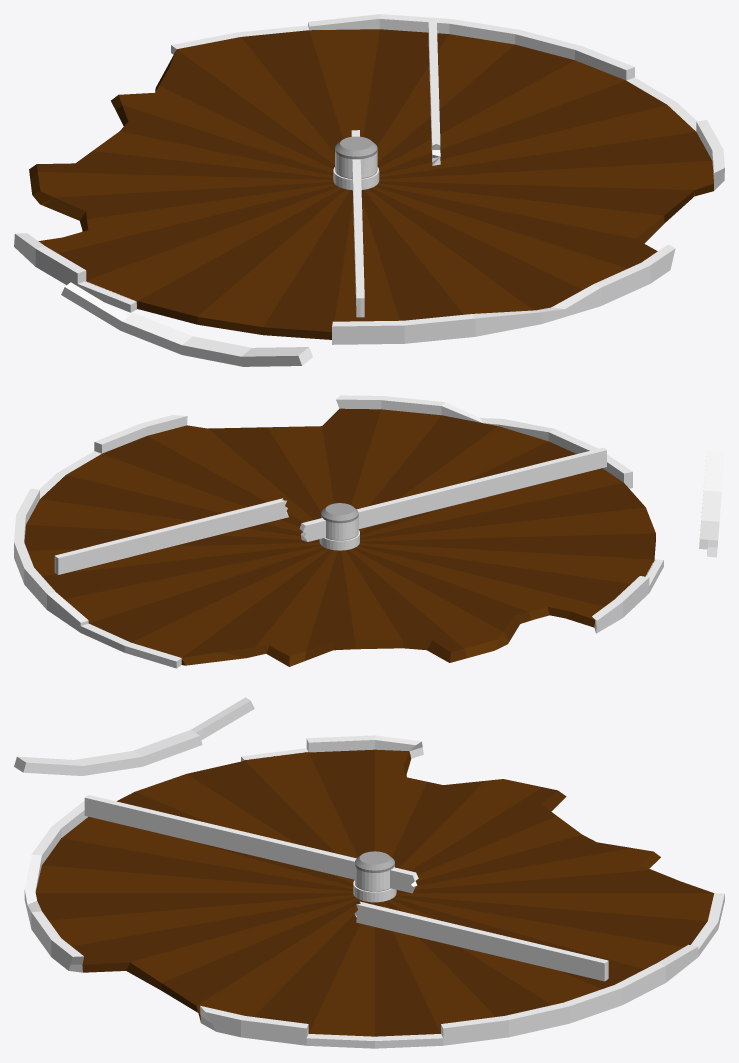
The model's file is farm 3rd damage.fbx.
3 views of the same model, one above another, from view 1: azimuth 30°, elevation 25°; view 2: azimuth 150°, elevation 25°; view 3: azimuth 270°, elevation 25° (orthographic). The views are drawn at different scales.
Parts seen in each view (by area): view 1: Circle, Circle.002, Circle.001, Circle.003; view 2: Circle, Circle.001, Circle.003, Circle.002; view 3: Circle, Circle.001, Circle.003, Circle.002.
Boxes of the visible parts, x1,y1,x2,y2 form: Circle: (14, 14, 724, 344); Circle.002: (61, 282, 312, 366); Circle.001: (335, 130, 377, 317); Circle.003: (428, 18, 440, 165); Circle: (14, 395, 663, 668); Circle.001: (299, 447, 606, 541); Circle.003: (54, 498, 288, 574); Circle.002: (699, 450, 724, 557); Circle: (24, 735, 724, 1048); Circle.001: (84, 795, 418, 893); Circle.003: (354, 901, 608, 981); Circle.002: (14, 697, 254, 775).
Bounding box in the file's own units: 1748 × 111 × 1670.
